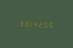eight: (22, 19, 26, 27)
five: (42, 20, 46, 28)
four: (32, 19, 36, 28)
one: (27, 19, 31, 27)
six: (47, 20, 51, 28)
three: (17, 19, 21, 27)
two: (37, 20, 41, 28)
